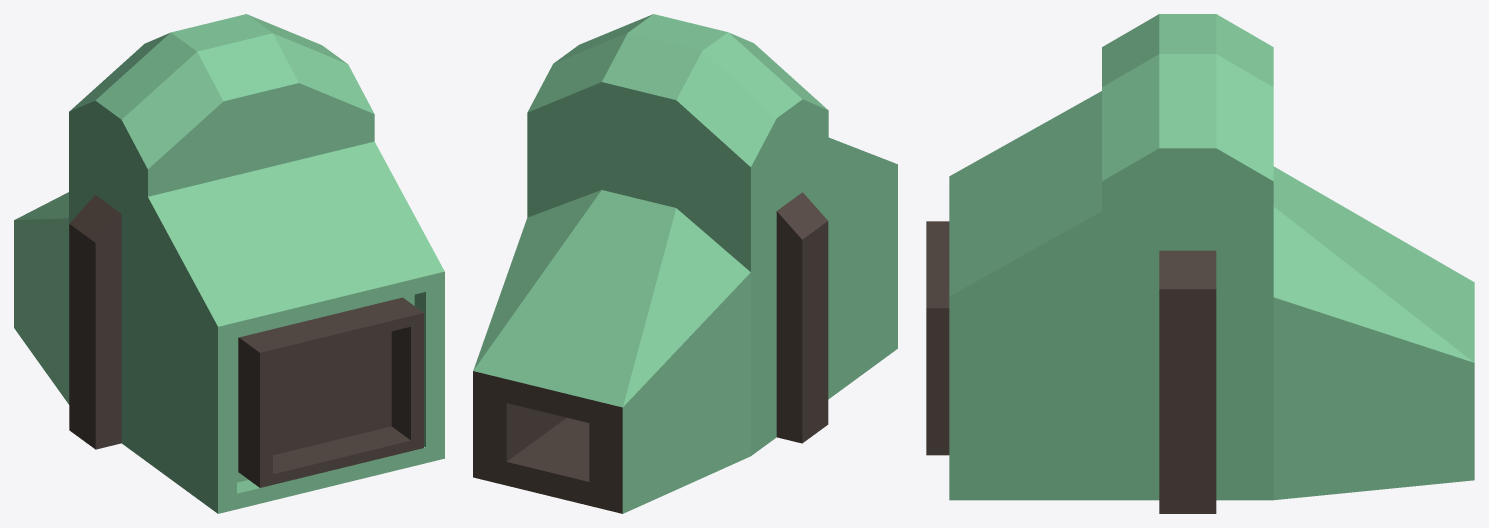
The model's file is hover_big.fbx.
3 views of the same model, side by side, from view 1: azimuth 30°, elevation 25°; view 2: azimuth 150°, elevation 25°; view 3: azimuth 270°, elevation 25° (orthographic). The views are drawn at different scales.
Parts seen in each view (by area): view 1: Cube.028; view 2: Cube.028; view 3: Cube.028.
Boxes of the visible parts, box(x1,y1,x2,y2) form: Cube.028: box(14, 14, 444, 513); Cube.028: box(473, 14, 897, 513); Cube.028: box(926, 14, 1474, 513).
Bounding box in the file's own units: 623 × 798 × 977.
